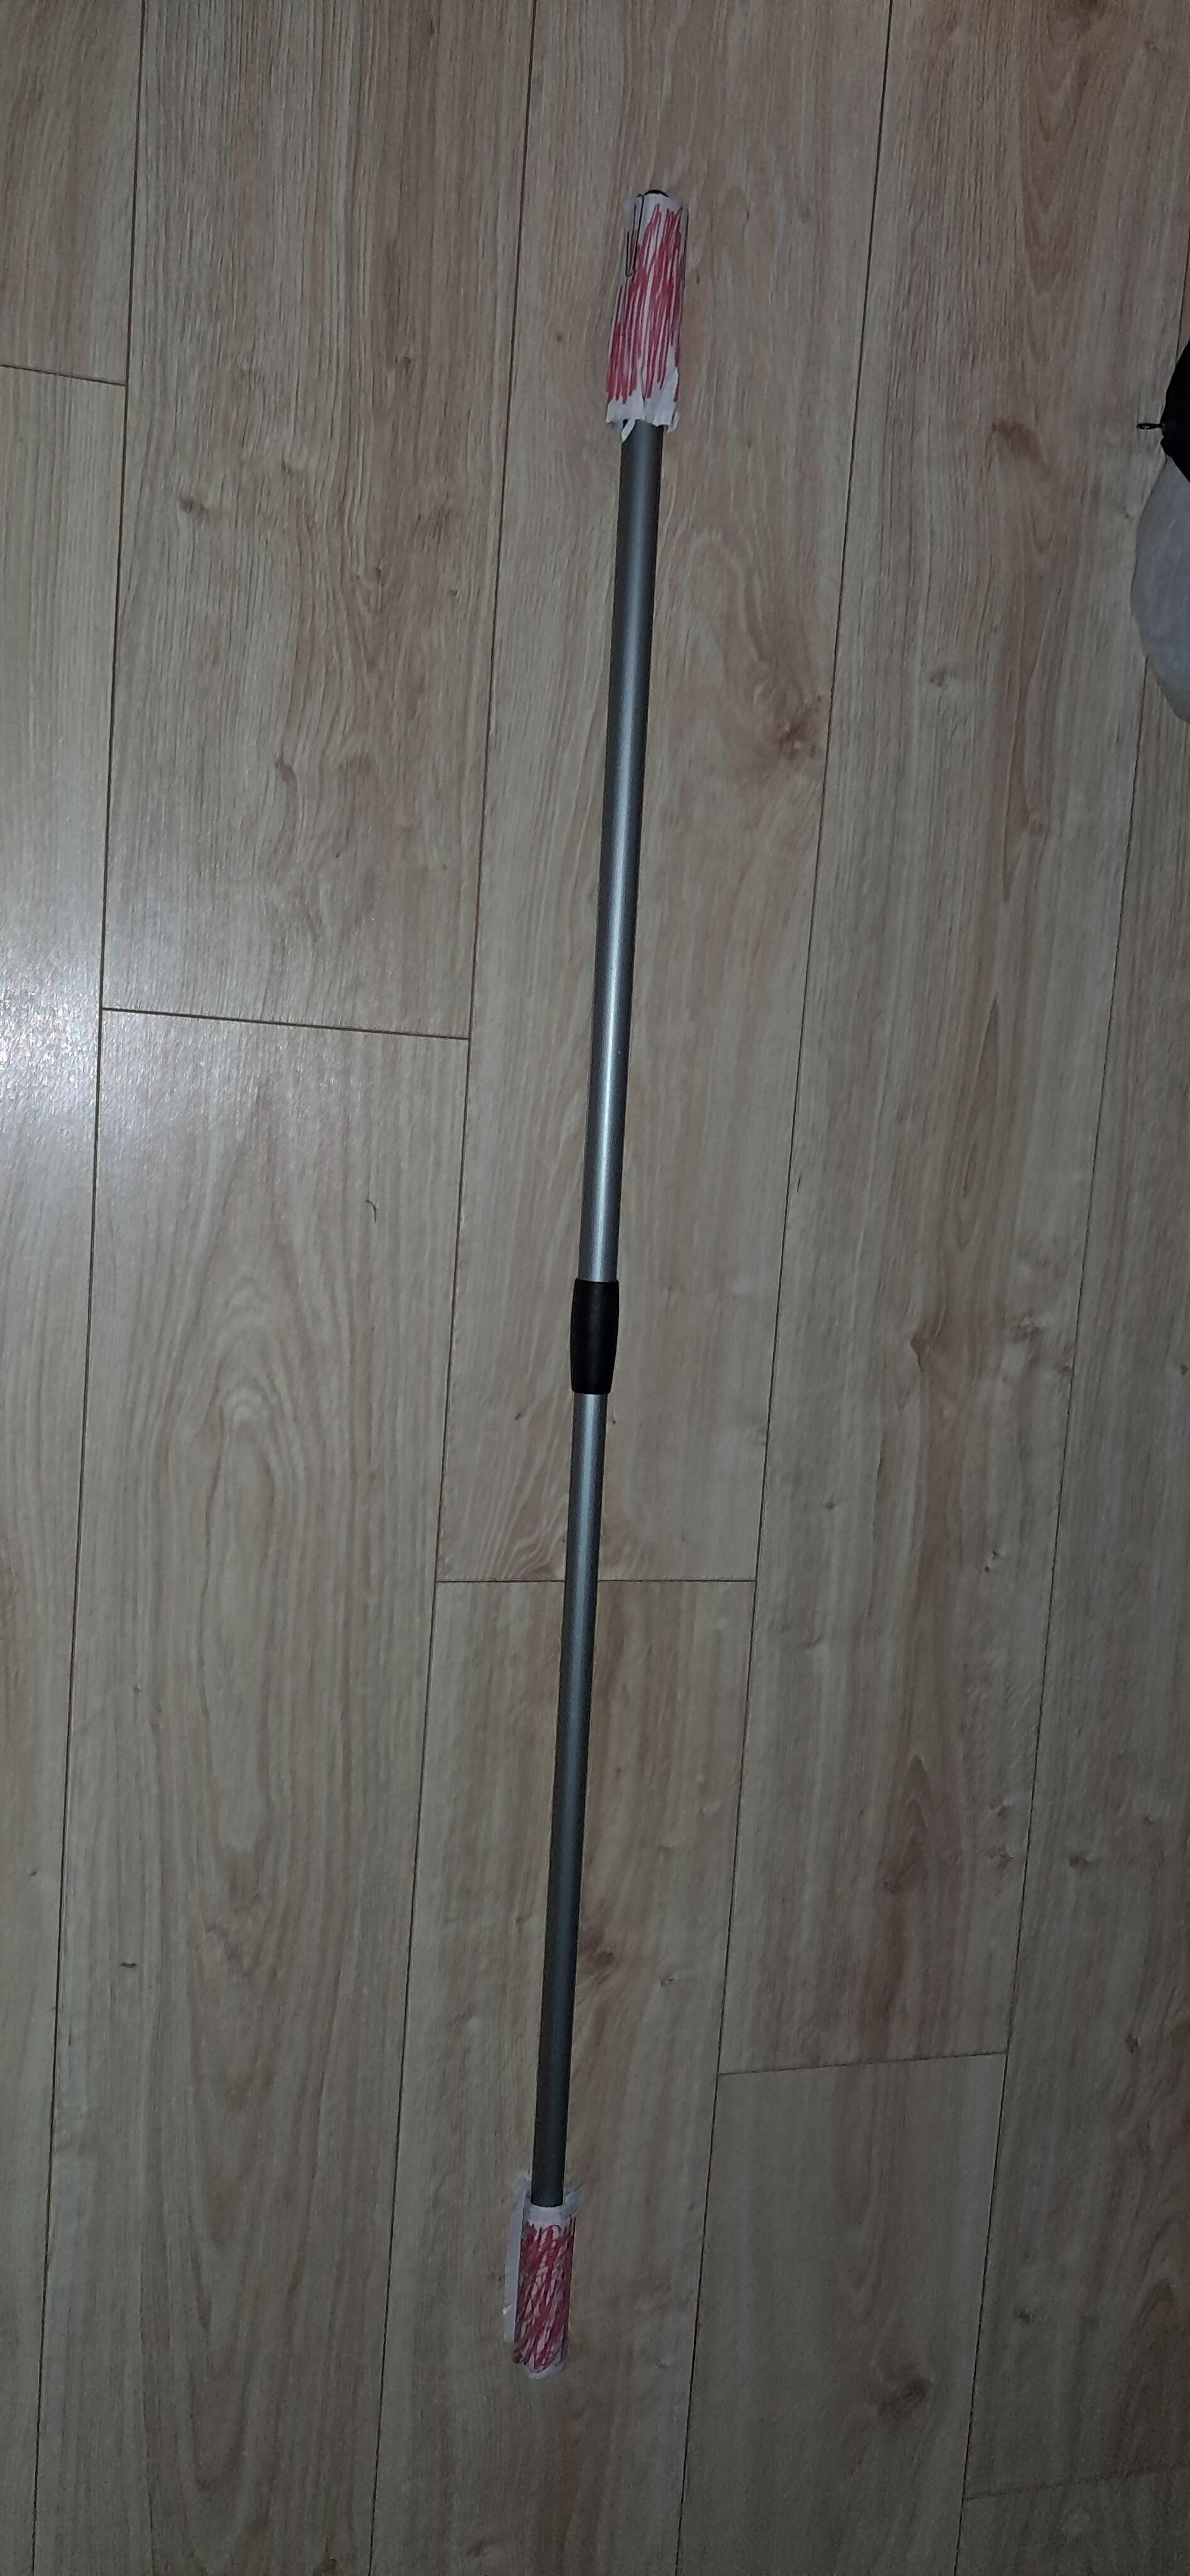broom-handle: (510, 192, 685, 2377)
